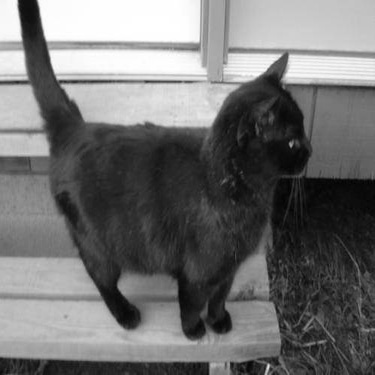cat: (12, 2, 312, 340)
